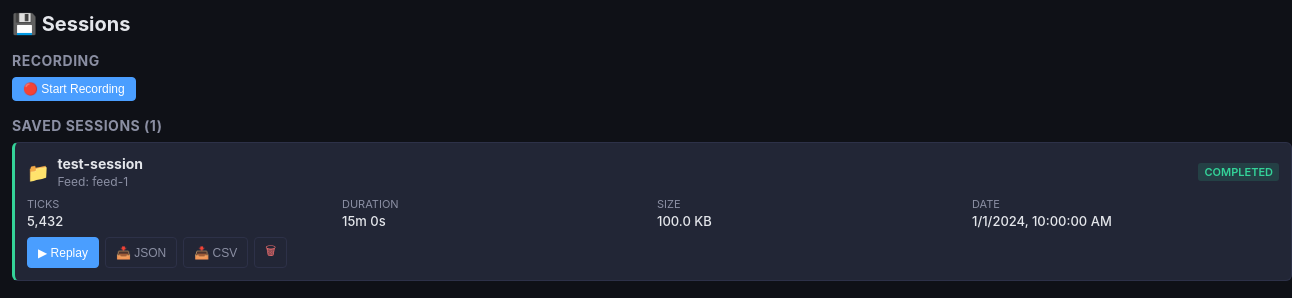
Test case: SessionManager › cancels delete on Cancel click
Expected: the text "test-session" is shown, left=58, top=155, right=143, bottom=172
Click the button titled "Delete session".
click(271, 252)  # box left=254, top=237, right=287, bottom=268
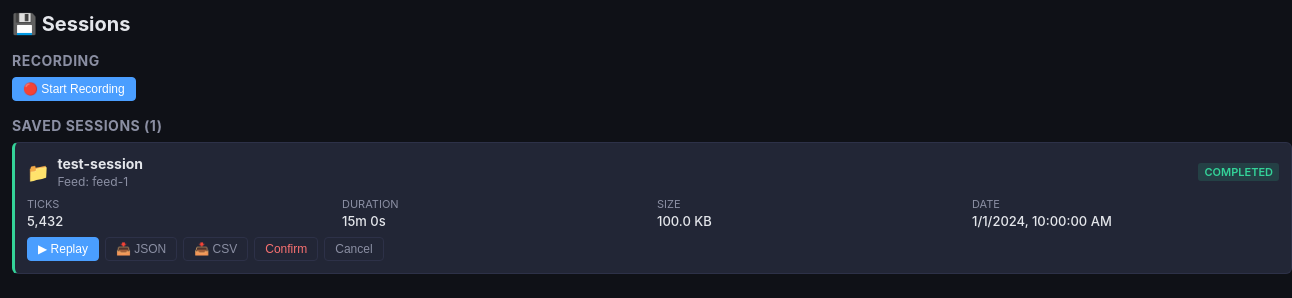
Expected: the button "Confirm" is shown, left=254, top=237, right=318, bottom=261
Click the button "Cancel".
click(354, 249)  # box left=324, top=237, right=384, bottom=261
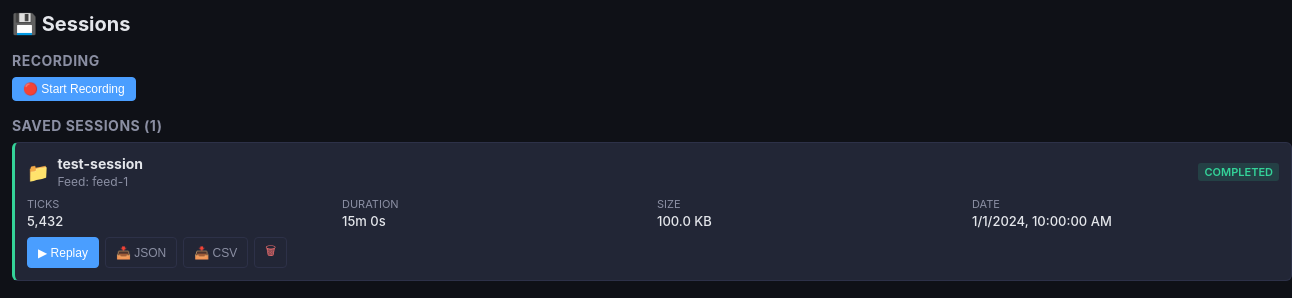
Expected: the button "Confirm" is gone
